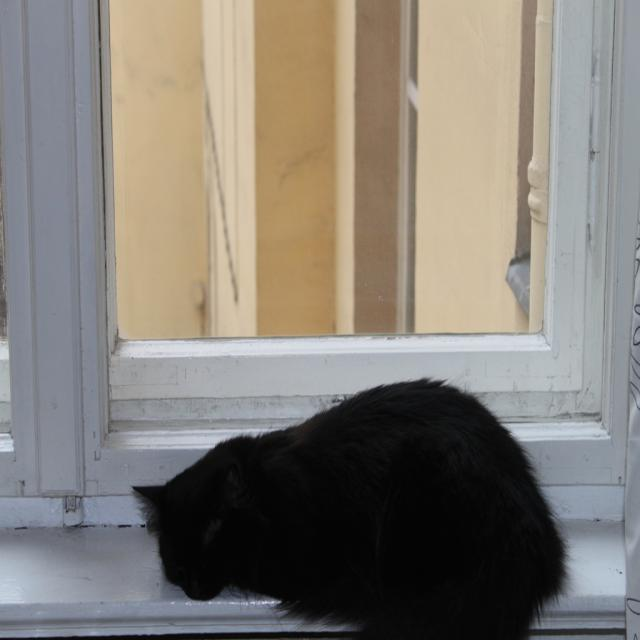Cat: (130, 382, 576, 638)
